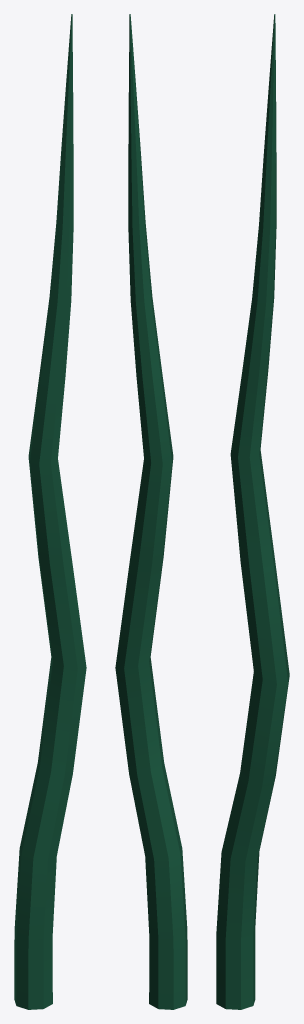
Rendered from Водоросль .fbx.
3 views of the same model, side by side, from view 1: azimuth 30°, elevation 25°; view 2: azimuth 150°, elevation 25°; view 3: azimuth 330°, elevation 25° (orthographic).
Visible parts, largest first — view 1: Объект_Цилиндр_2; view 2: Объект_Цилиндр_2; view 3: Объект_Цилиндр_2.
Boxes of the visible parts, bbox=[...] form: Объект_Цилиндр_2: bbox=[14, 14, 86, 1009]; Объект_Цилиндр_2: bbox=[115, 14, 187, 1009]; Объект_Цилиндр_2: bbox=[216, 14, 289, 1009].
Bounding box in the file's own units: 111 × 1518 × 56.01.
